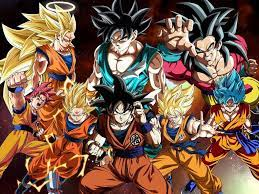Songoku: (101, 86, 137, 123), (42, 13, 76, 49), (186, 32, 222, 66), (106, 19, 140, 53), (160, 94, 193, 126), (25, 82, 52, 110), (219, 84, 243, 114), (67, 95, 92, 123)
